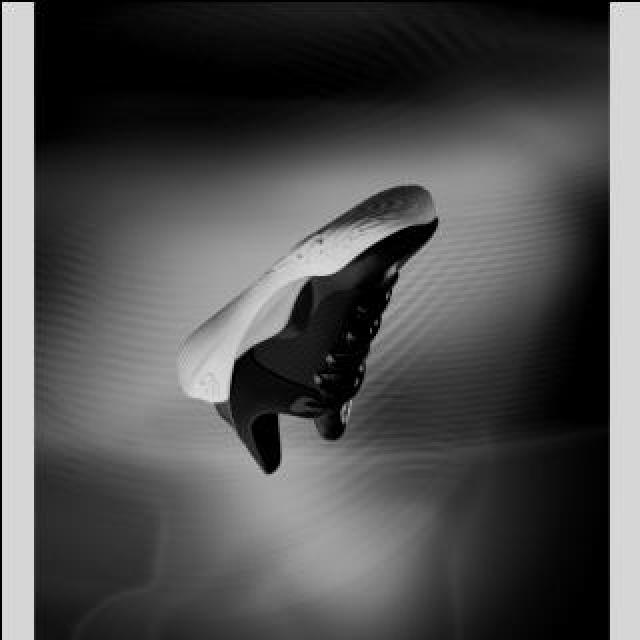shoe: (176, 184, 436, 472)
